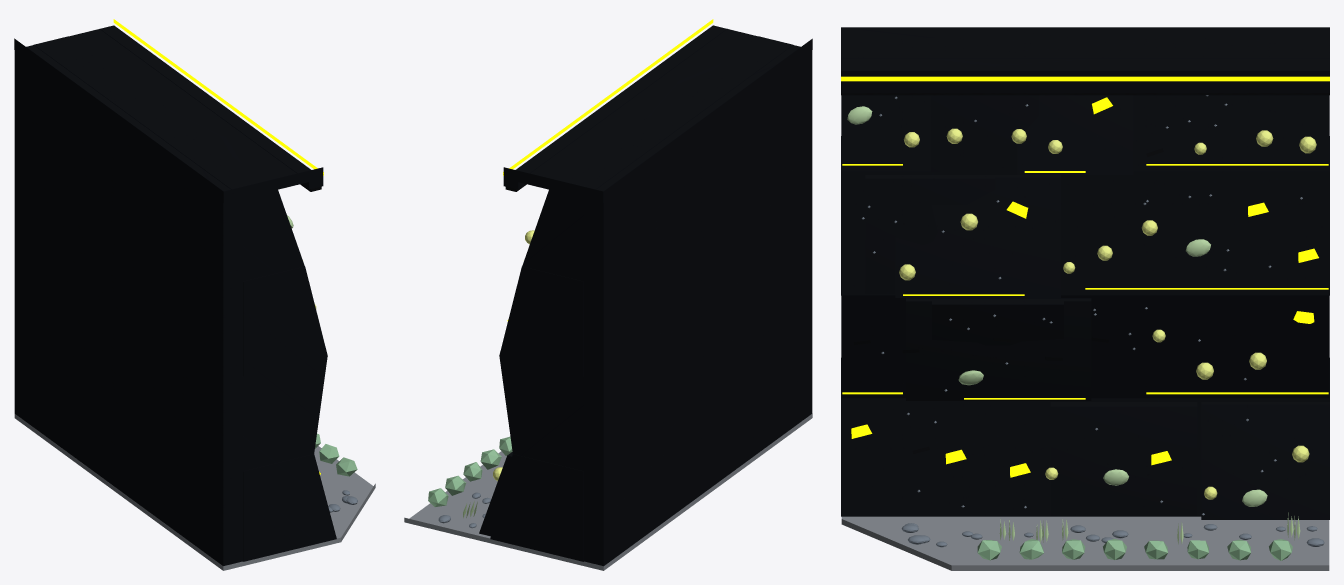
The model's file is tt_plinth_skirt_mitre_se.glb.
3 views of the same model, side by side, from view 1: azimuth 30°, elevation 25°; view 2: azimuth 150°, elevation 25°; view 3: azimuth 270°, elevation 25° (orthographic). The views are drawn at different scales.
Visible parts, largest first — view 1: Skirt_Core, Cap_Course, Course3_Facets, Course0_Facets, Course1_Facets, Course2_Facets, Base_Mat, Cap_Court_Line, Moss_Edge; view 2: Skirt_Core, Cap_Course, Course3_Facets, Course0_Facets, Course1_Facets, Course2_Facets, Base_Mat, Moss_Edge, Cap_Court_Line; view 3: Course2_Facets, Course0_Facets, Course1_Facets, Course3_Facets, Cap_Course, Base_Mat, Tennis_Ball_Holds, Moss_Edge, Cap_Court_Line, Seam_Tape, Jug_Holds, Sloper_Holds (+3 smaller).
Boxes of the visible parts, bbox=[...] form: Skirt_Core: bbox=[14, 50, 242, 565]; Cap_Course: bbox=[14, 25, 323, 202]; Course3_Facets: bbox=[34, 36, 304, 281]; Course0_Facets: bbox=[243, 454, 336, 561]; Course1_Facets: bbox=[242, 356, 327, 471]; Course2_Facets: bbox=[243, 266, 327, 376]; Base_Mat: bbox=[14, 414, 375, 570]; Cap_Court_Line: bbox=[113, 19, 323, 175]; Moss_Edge: bbox=[315, 433, 357, 476]; Skirt_Core: bbox=[584, 50, 812, 566]; Cap_Course: bbox=[503, 25, 812, 202]; Course3_Facets: bbox=[522, 36, 792, 281]; Course0_Facets: bbox=[479, 452, 583, 561]; Course1_Facets: bbox=[499, 356, 584, 471]; Course2_Facets: bbox=[499, 266, 583, 376]; Base_Mat: bbox=[404, 413, 812, 570]; Moss_Edge: bbox=[428, 436, 512, 506]; Cap_Court_Line: bbox=[503, 19, 713, 175]; Course2_Facets: bbox=[841, 136, 1329, 297]; Course0_Facets: bbox=[841, 358, 1329, 519]; Course1_Facets: bbox=[841, 295, 1329, 400]; Course3_Facets: bbox=[841, 38, 1329, 174]; Cap_Course: bbox=[841, 27, 1329, 92]; Base_Mat: bbox=[841, 516, 1329, 570]; Tennis_Ball_Holds: bbox=[899, 128, 1316, 499]; Moss_Edge: bbox=[977, 539, 1292, 560]; Cap_Court_Line: bbox=[841, 76, 1329, 81]; Seam_Tape: bbox=[842, 164, 1328, 399]; Jug_Holds: bbox=[851, 97, 1318, 477]; Sloper_Holds: bbox=[847, 106, 1267, 506].
Size of what is drawn, in the model's own units: 2.2 by 4 by 4.
8 materials, 3 textured.
